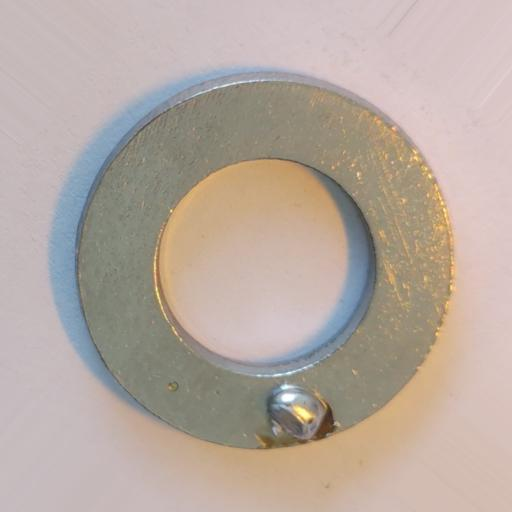excess_material: (265, 382, 335, 442)
